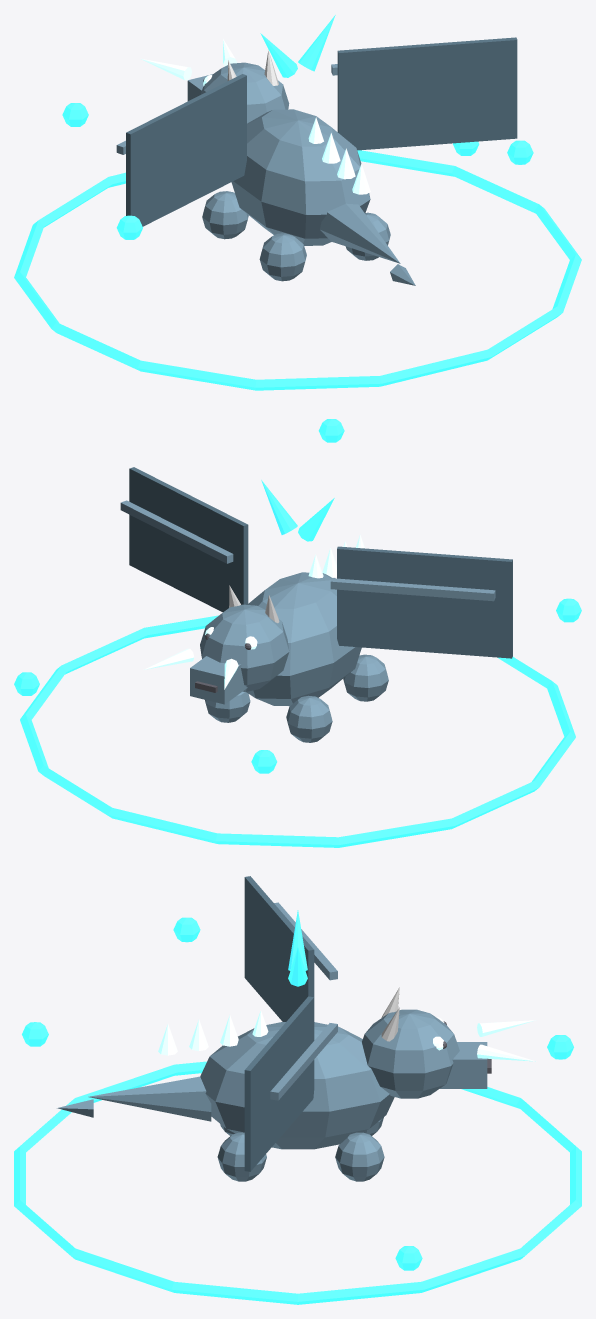
The model's file is evolved_electro_dragon.glb.
The picture shows the model from 3 angles, top to bottom: view 1: azimuth 30°, elevation 25°; view 2: azimuth 150°, elevation 25°; view 3: azimuth 270°, elevation 25°; orthographic projection. The views are drawn at different scales.
Visible parts, largest first — view 1: evolved_electro_dragon; view 2: evolved_electro_dragon; view 3: evolved_electro_dragon.
Part boxes in pixels (x1,y1,x2,y2): evolved_electro_dragon: (14,15,581,390); evolved_electro_dragon: (14,419,581,847); evolved_electro_dragon: (14,876,581,1304).
Bounding box in the file's own units: 5.18 × 2.51 × 5.05.
